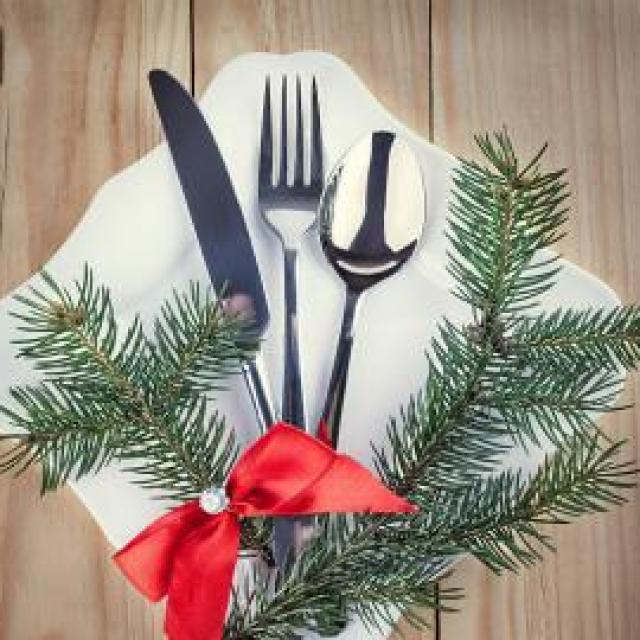knife: (146, 66, 303, 528)
